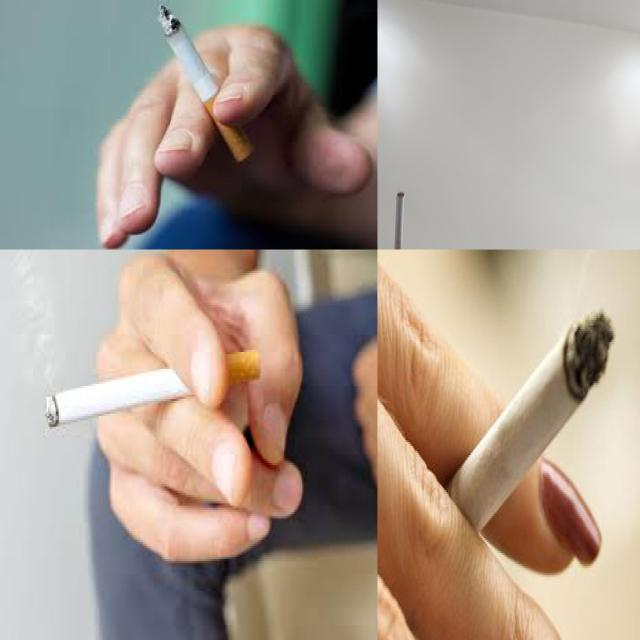smoking: (412, 305, 617, 583), (46, 350, 260, 430), (160, 5, 254, 164), (392, 192, 406, 250)
